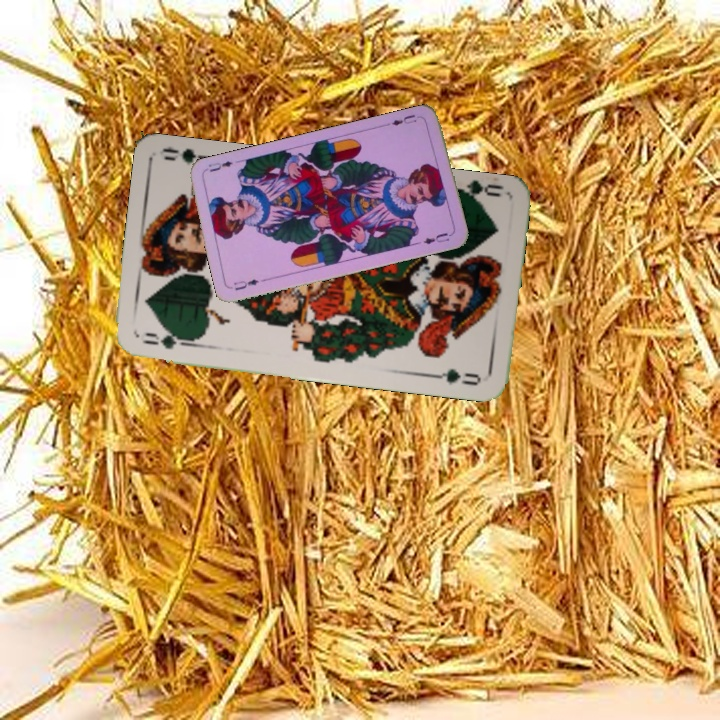EU: (387, 110, 424, 128), (230, 275, 261, 293)
GO: (446, 177, 506, 206), (138, 328, 196, 352)
